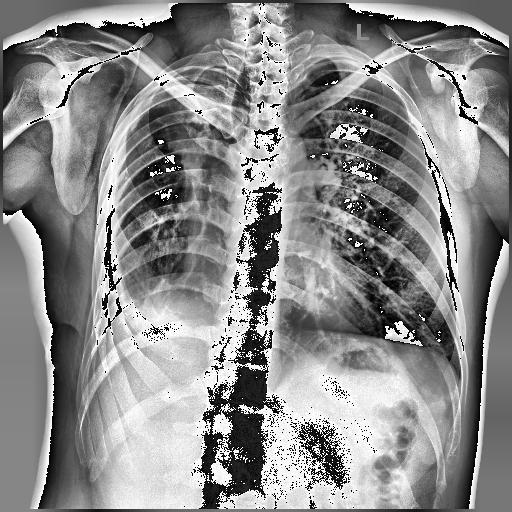1- Atelectasis: (127, 68, 232, 171), (150, 61, 226, 159)
10- Pleural effusion: (98, 234, 196, 326), (97, 276, 161, 374), (90, 287, 160, 337)
11- Pleural thickening: (126, 69, 248, 136), (90, 287, 160, 337)
13- Pulmonary fibrosis: (141, 120, 191, 299)
7- Lung Opacity: (116, 258, 214, 328), (127, 276, 185, 318)
9- Other lesion: (214, 63, 260, 162)
